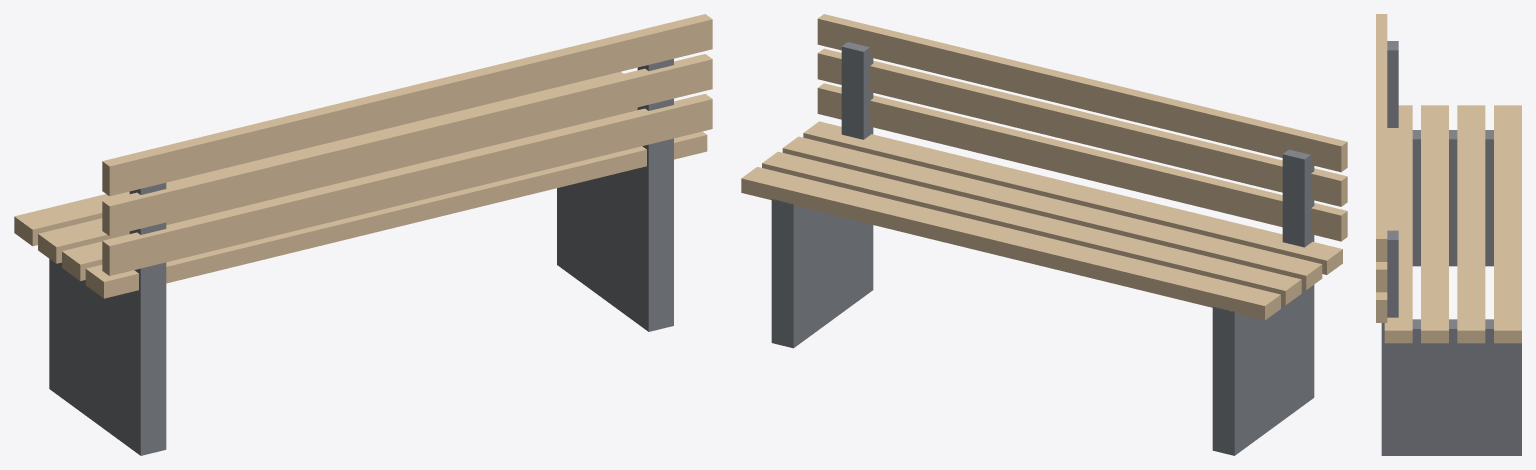
File: park_bench.glb
3 views of the same model, side by side, from view 1: azimuth 30°, elevation 25°; view 2: azimuth 150°, elevation 25°; view 3: azimuth 270°, elevation 25° (orthographic). The views are drawn at different scales.
Parts seen in each view (by area): view 1: park_bench; view 2: park_bench; view 3: park_bench.
Part boxes in pixels (<box>): park_bench: <box>14,14,712,455</box>; park_bench: <box>741,14,1347,455</box>; park_bench: <box>1376,14,1521,455</box>.
Size of the model in its own units: 1.9 by 0.905 by 0.52.
